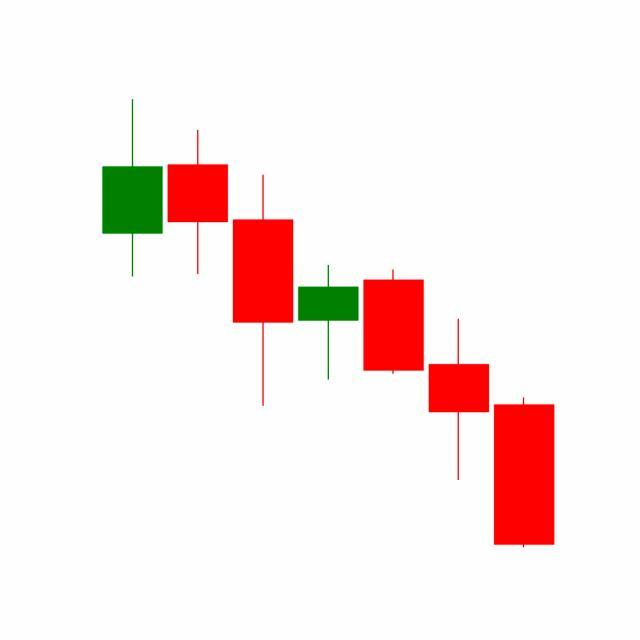Three Outside Up-Down: (295, 264, 492, 484)
